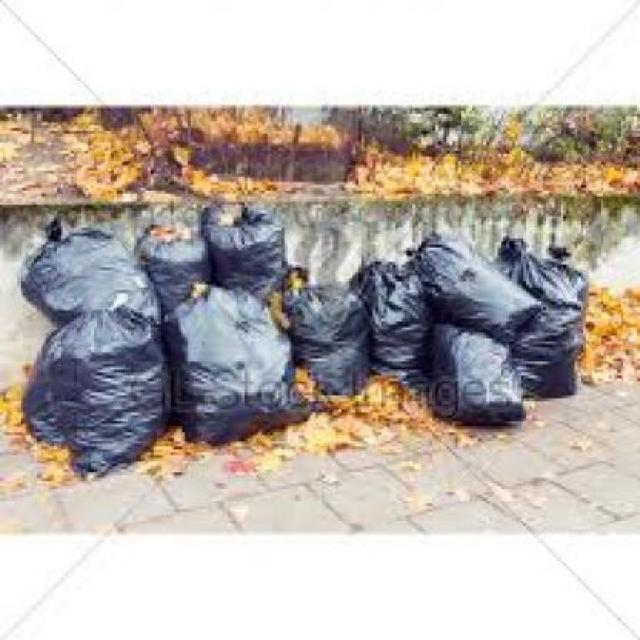garbage: (11, 211, 588, 442)
